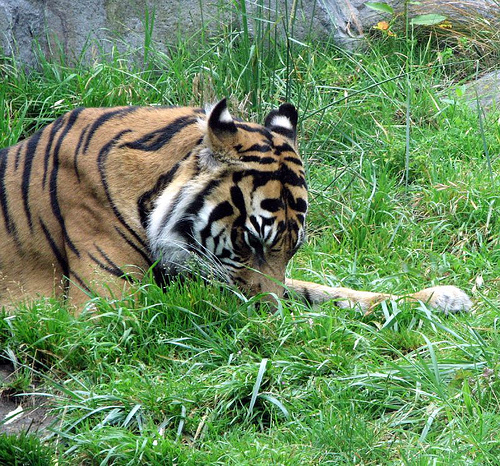Tigre: (9, 83, 466, 371)
